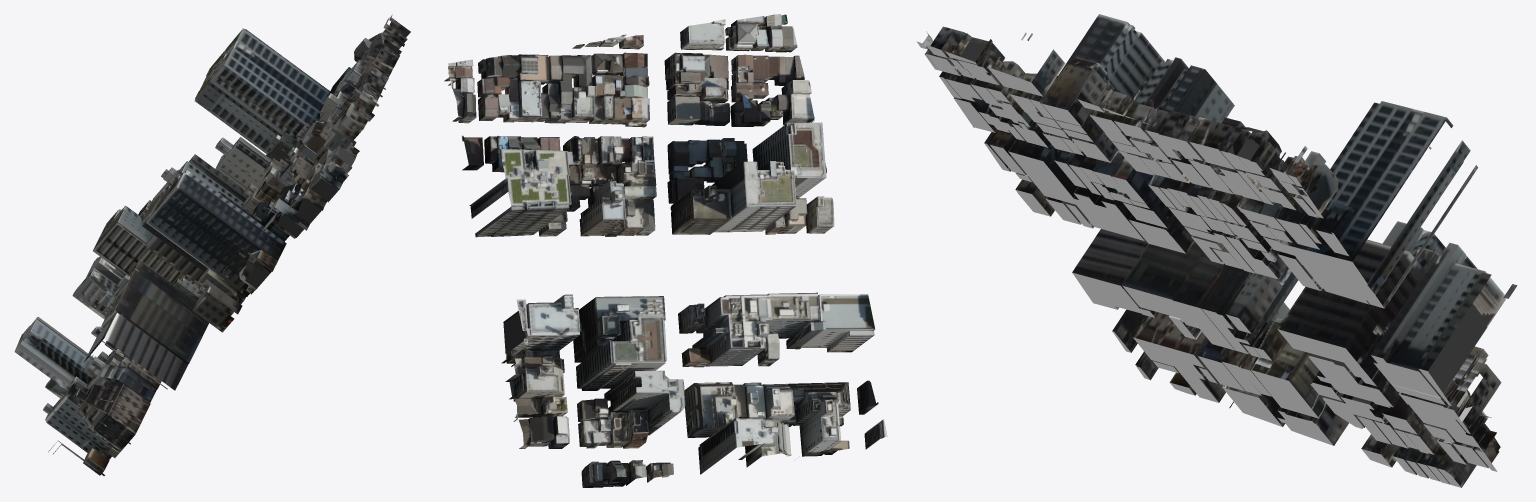
File: 39538_bldg_Building.glb
3 renders of one model, left to right at view 1: azimuth 30°, elevation 25°; view 2: azimuth 150°, elevation 25°; view 3: azimuth 270°, elevation 25°, orthographic. The views are drawn at different scales.
Size of the model in its own units: 160 by 132 by 151.
Materials: 5 (4 with a texture image).
